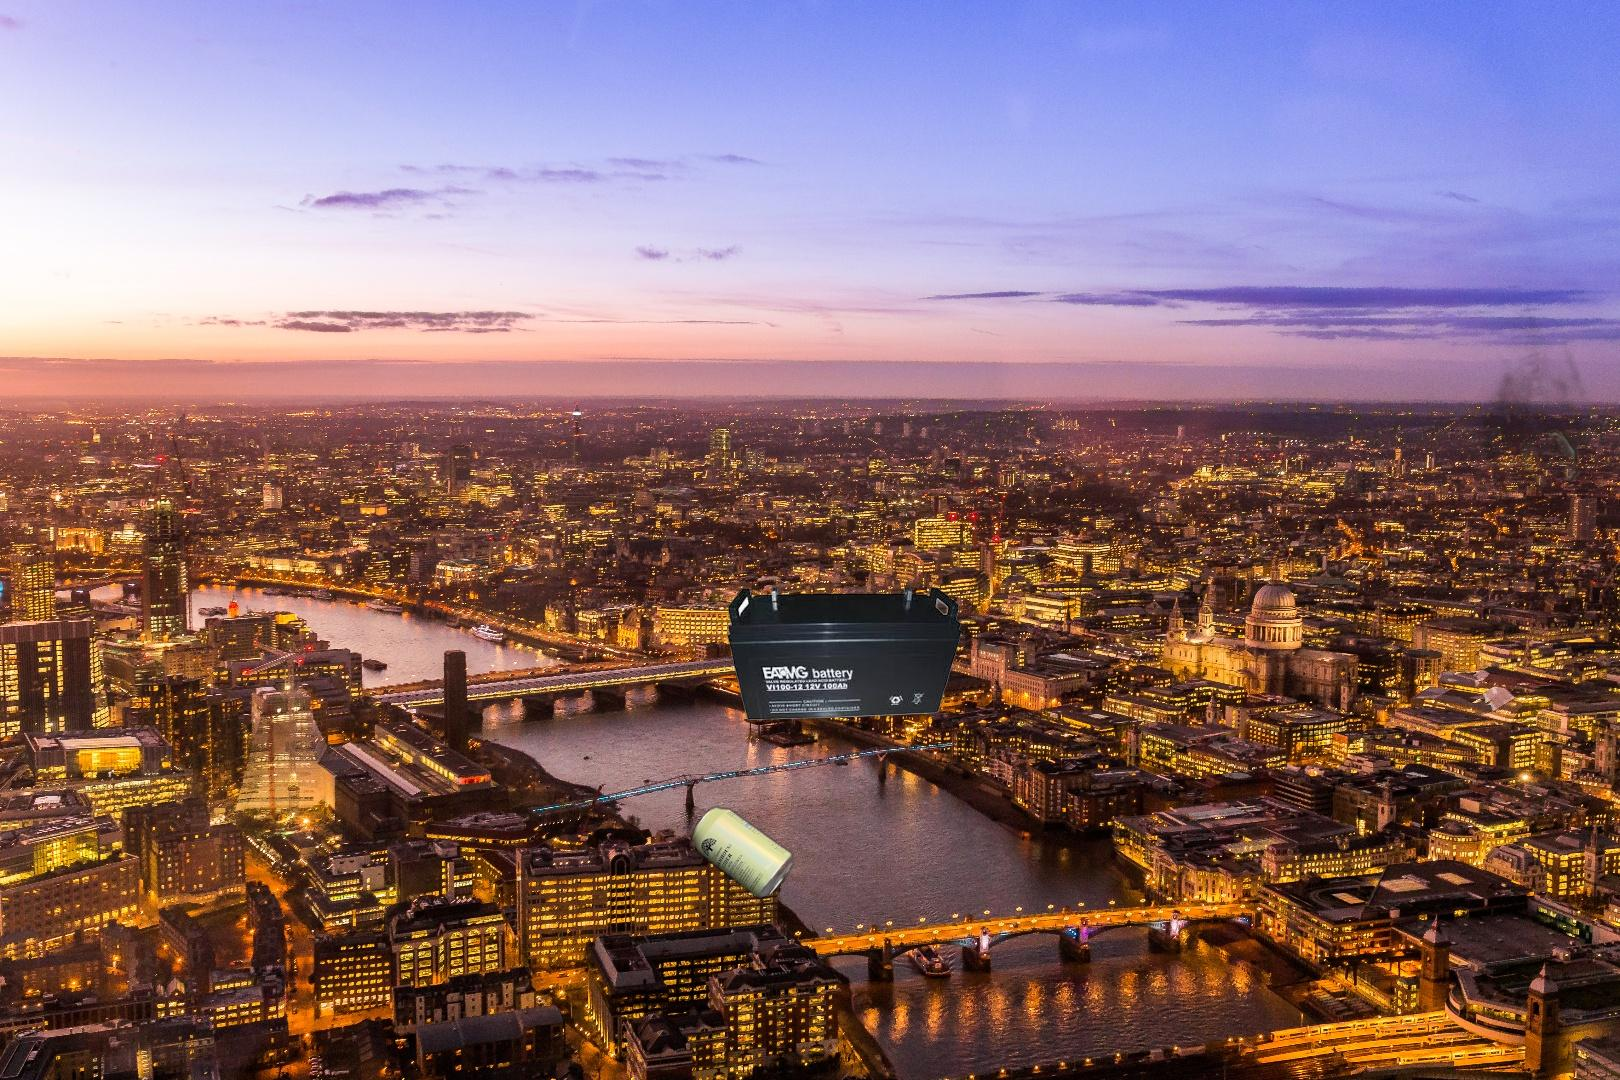battery: (724, 585, 963, 723)
metal-cans: (685, 800, 798, 905)
paper: (1220, 251, 1620, 620)
